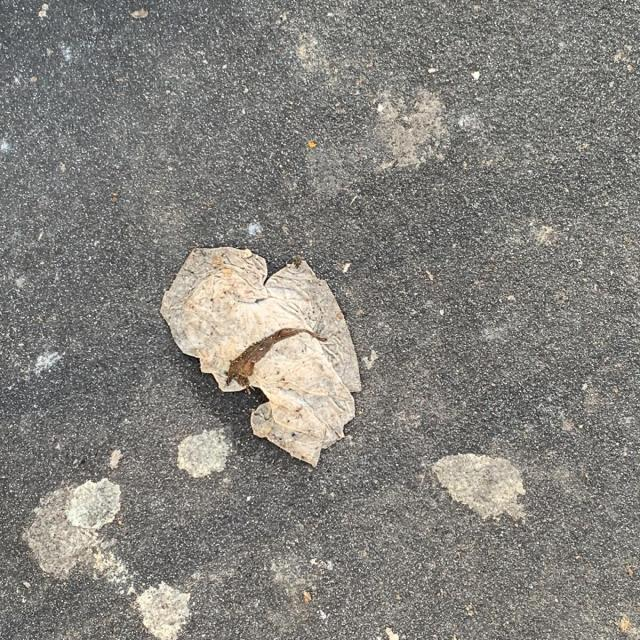Paper: (158, 244, 364, 470)
